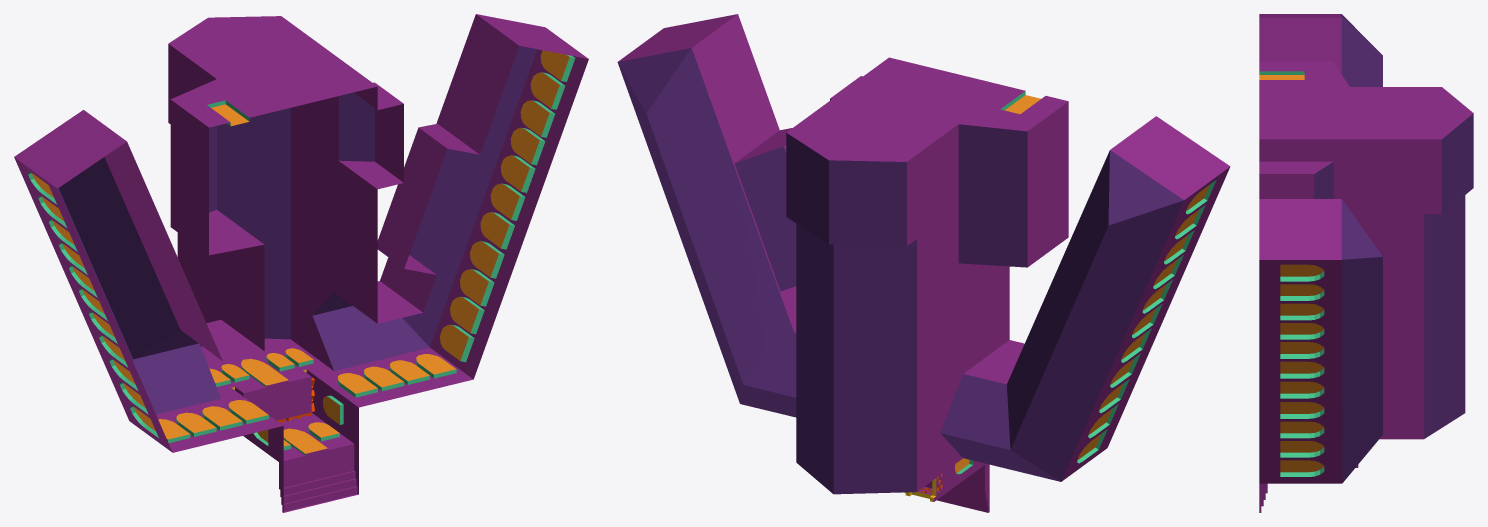
Rendered from Resursa Tier 3.fbx.
The picture shows the model from 3 angles, left to right: view 1: azimuth 30°, elevation 25°; view 2: azimuth 150°, elevation 25°; view 3: azimuth 270°, elevation 25°; orthographic projection. The views are drawn at different scales.
Parts seen in each view (by area): view 1: Resursa; view 2: Resursa; view 3: Resursa.
Boxes of the visible parts, x1,y1,x2,y2 form: Resursa: (14,14,588,512); Resursa: (617,14,1230,512); Resursa: (1259,14,1473,512).
Size of the model in its own units: 4.29 by 3.16 by 1.58.
